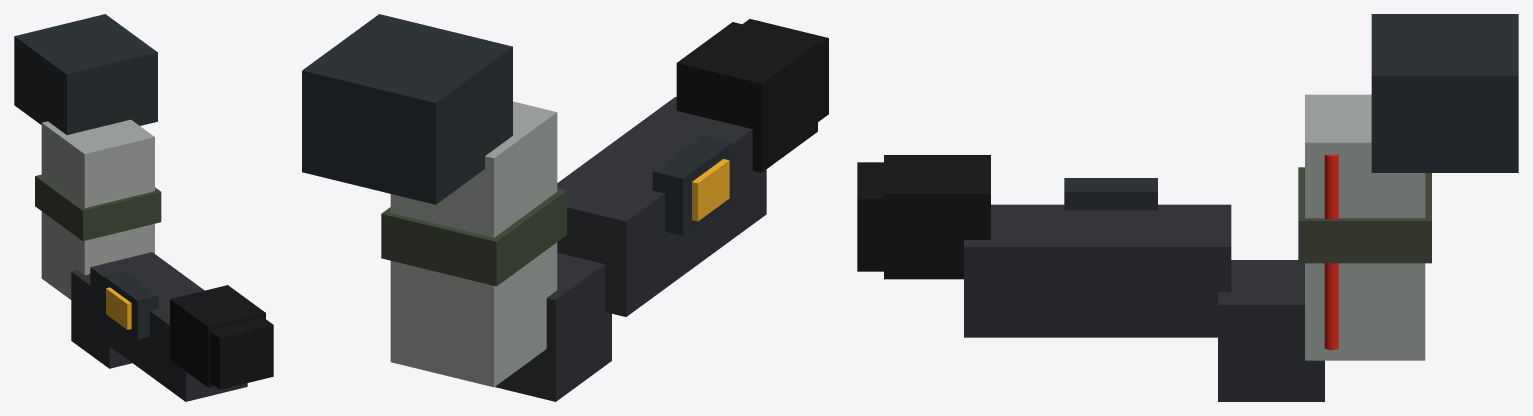
The model's file is mercenary_right_arm.obj.
The picture shows the model from 3 angles, left to right: view 1: azimuth 30°, elevation 25°; view 2: azimuth 150°, elevation 25°; view 3: azimuth 270°, elevation 25°; orthographic projection. The views are drawn at different scales.
Size of the model in its own units: 0.1625 by 0.29 by 0.495.
